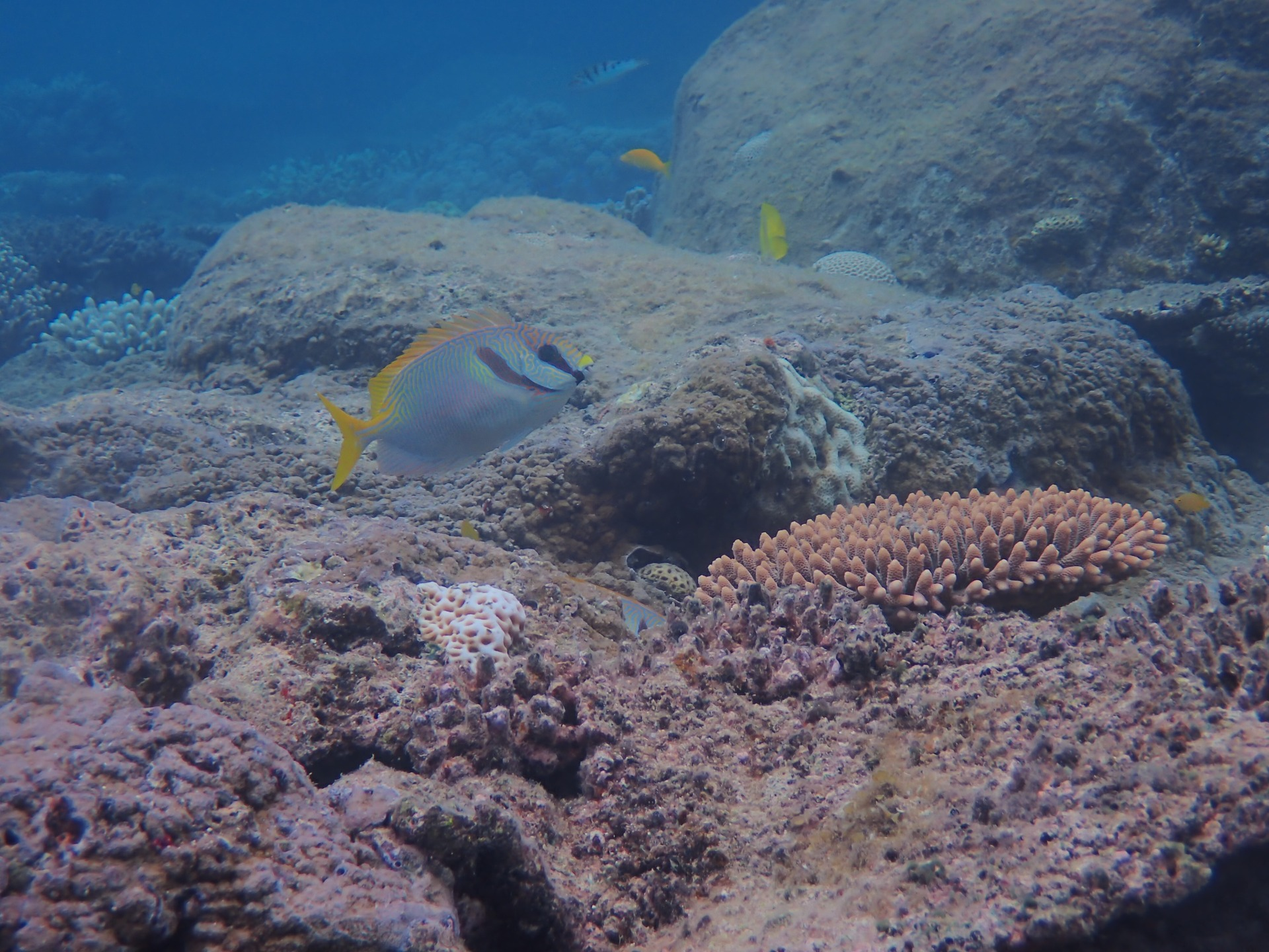fishbody: (317, 312, 599, 496)
fishhead: (478, 325, 594, 412)
